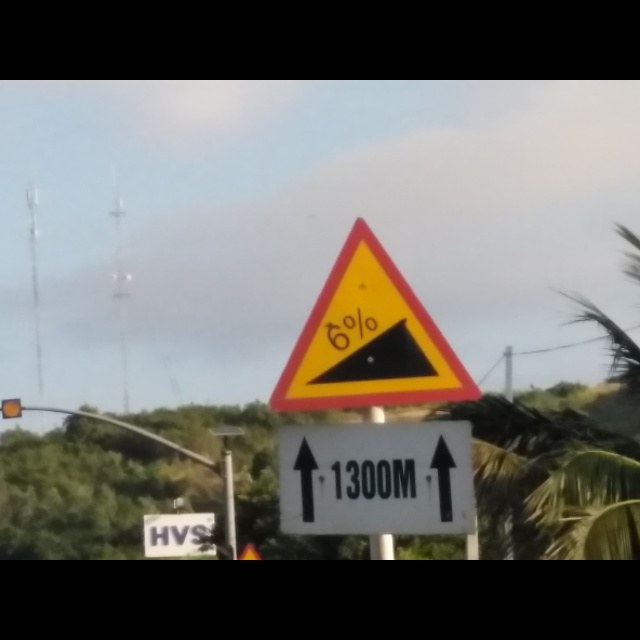Dốc lên nguy hiểm: (269, 211, 484, 412)
